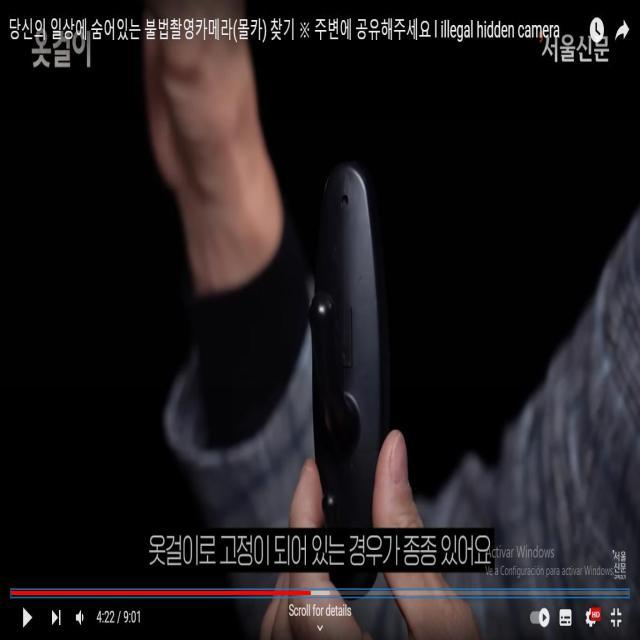hidden camera: (336, 180, 354, 223)
